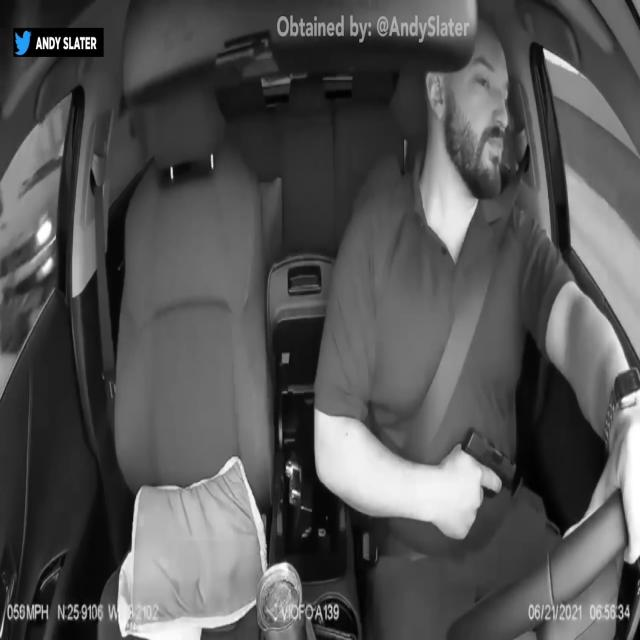senjata_api: (462, 426, 518, 497)
